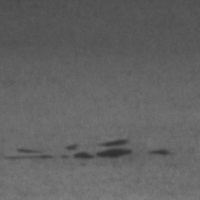inclusion: (1, 132, 135, 165), (147, 143, 177, 161)
